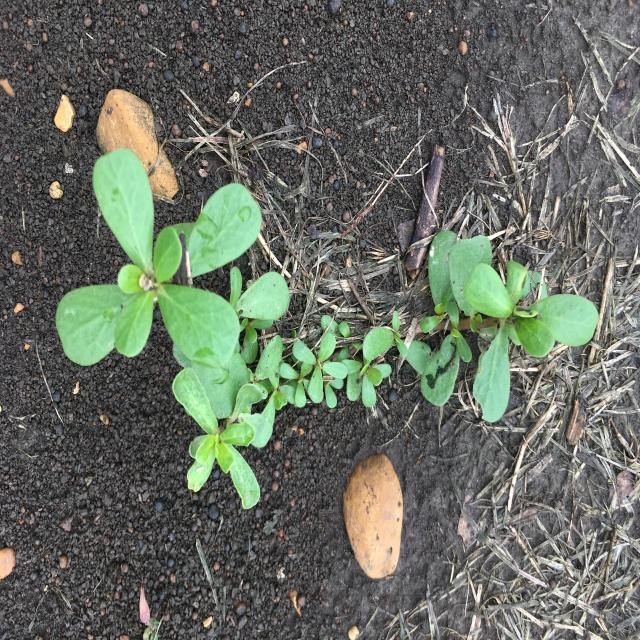Purslane: (56, 148, 598, 510)
